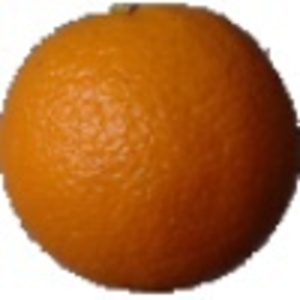laranja: (3, 3, 299, 298)
